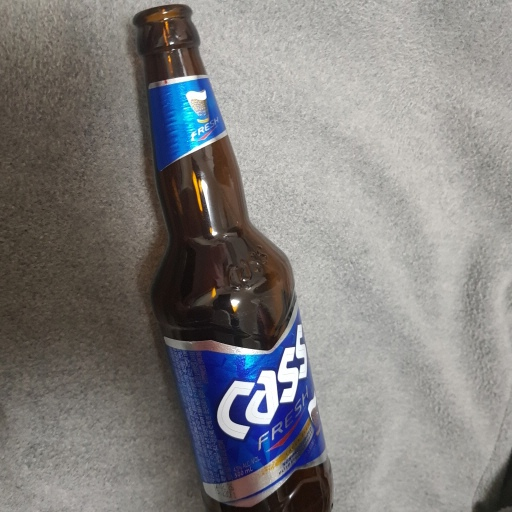Glass_1: (129, 5, 340, 512)
